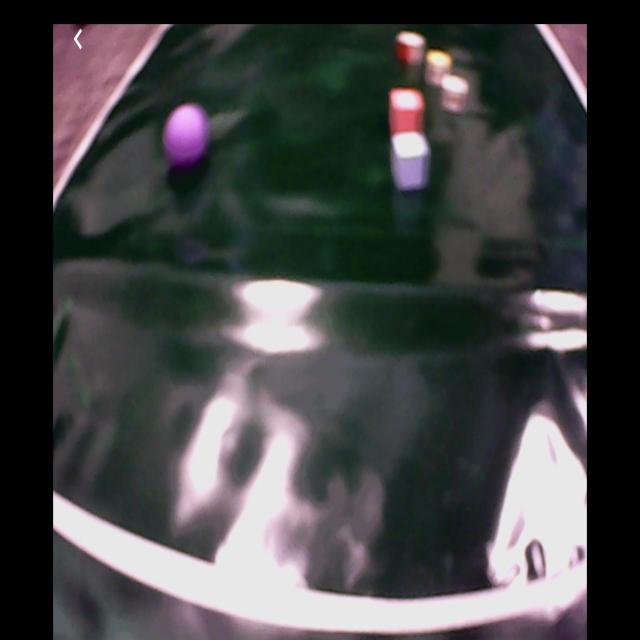ball: (164, 105, 208, 161)
